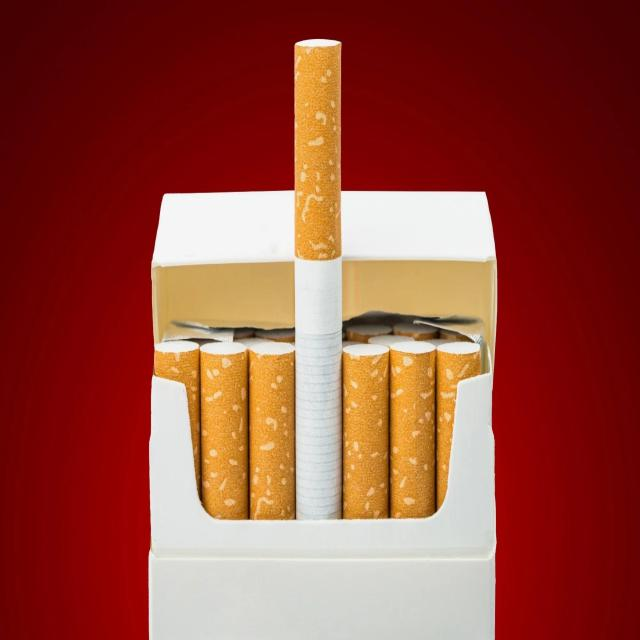cigarette: (287, 39, 345, 524), (355, 342, 436, 520), (342, 345, 393, 521), (200, 342, 249, 521), (249, 342, 295, 521), (154, 339, 201, 500), (436, 342, 481, 510)
